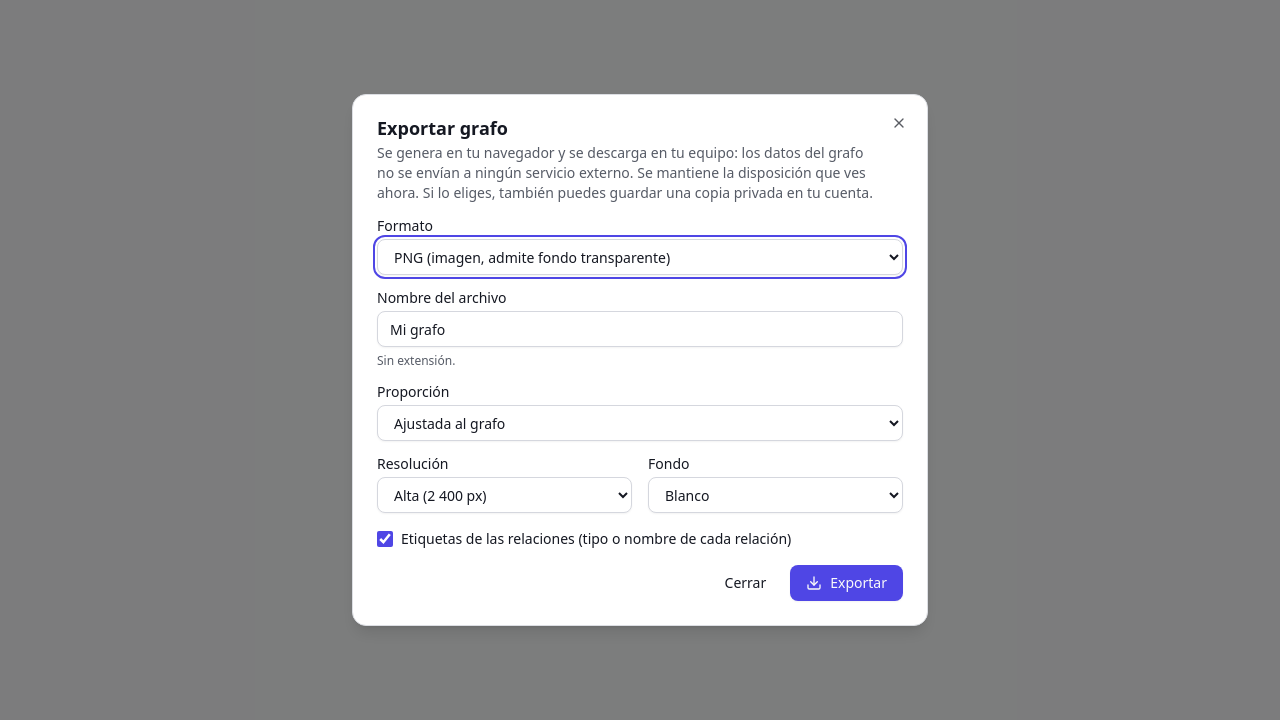
it: ExportDialog · PowerPoint interactivo › sin graphId no se puede exportar en este formato
The image size is (1280, 720).
Select "PowerPoint interactivo (enlace de solo lectura + Web Viewer)" in the dropdown labelled "Formato" at (640,257), box [377,239,903,275]
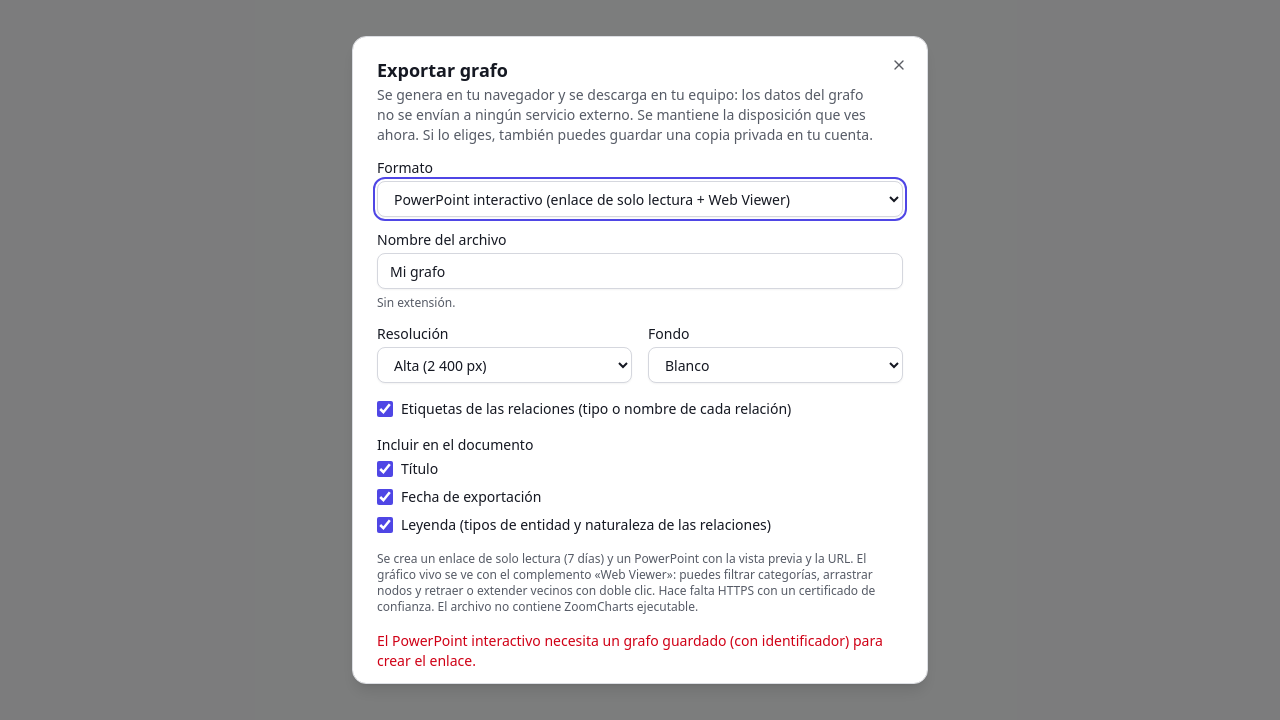
Check: the message shows "grafo guardado", box [377,631,883,670]
